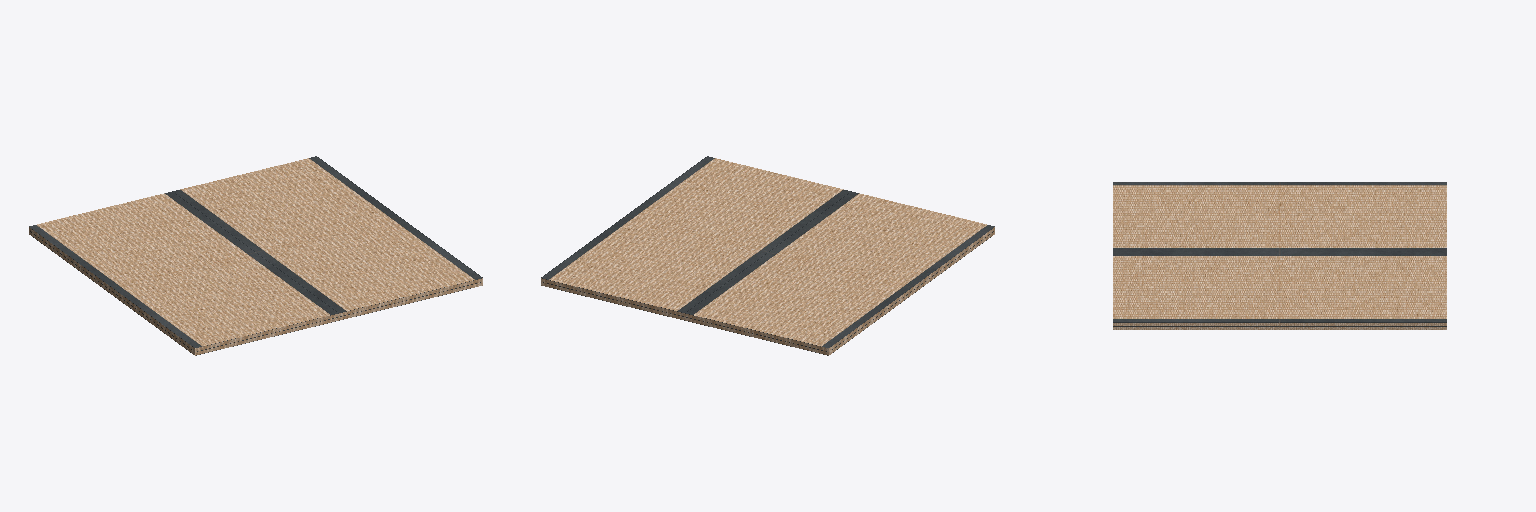
3 views of the same model, side by side, from view 1: azimuth 30°, elevation 25°; view 2: azimuth 150°, elevation 25°; view 3: azimuth 270°, elevation 25° (orthographic).
Visible parts, largest first — view 1: Cube_Cube.001; view 2: Cube_Cube.001; view 3: Cube_Cube.001.
Boxes of the visible parts, box(x1,y1,x2,y2) form: Cube_Cube.001: box(29, 156, 482, 355); Cube_Cube.001: box(541, 156, 994, 355); Cube_Cube.001: box(1113, 182, 1446, 329).
Size of the model in its own units: 2 by 0.05 by 2.
1 materials, 1 textured.